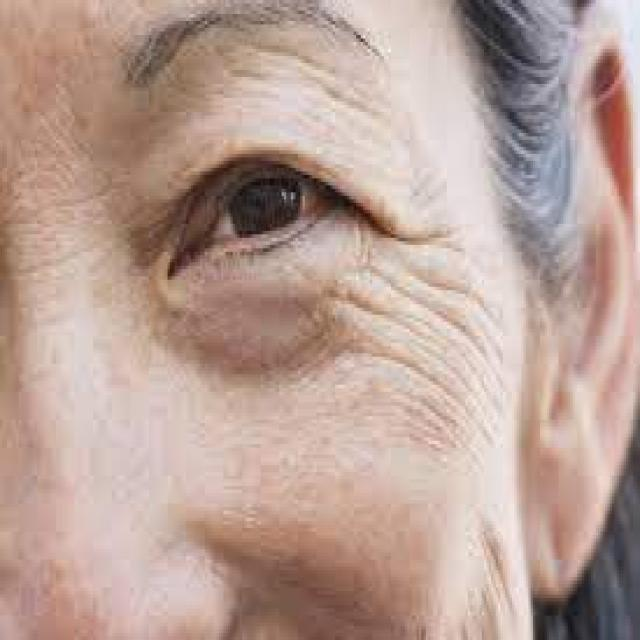Wrinkles: (303, 196, 509, 458)
